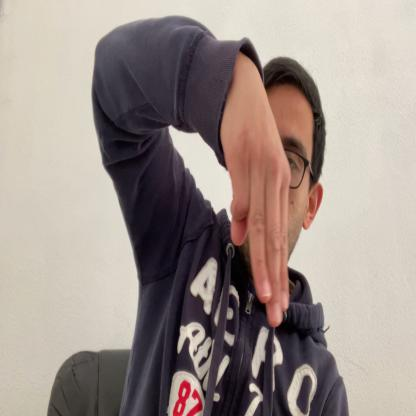M: (231, 76, 291, 327)
